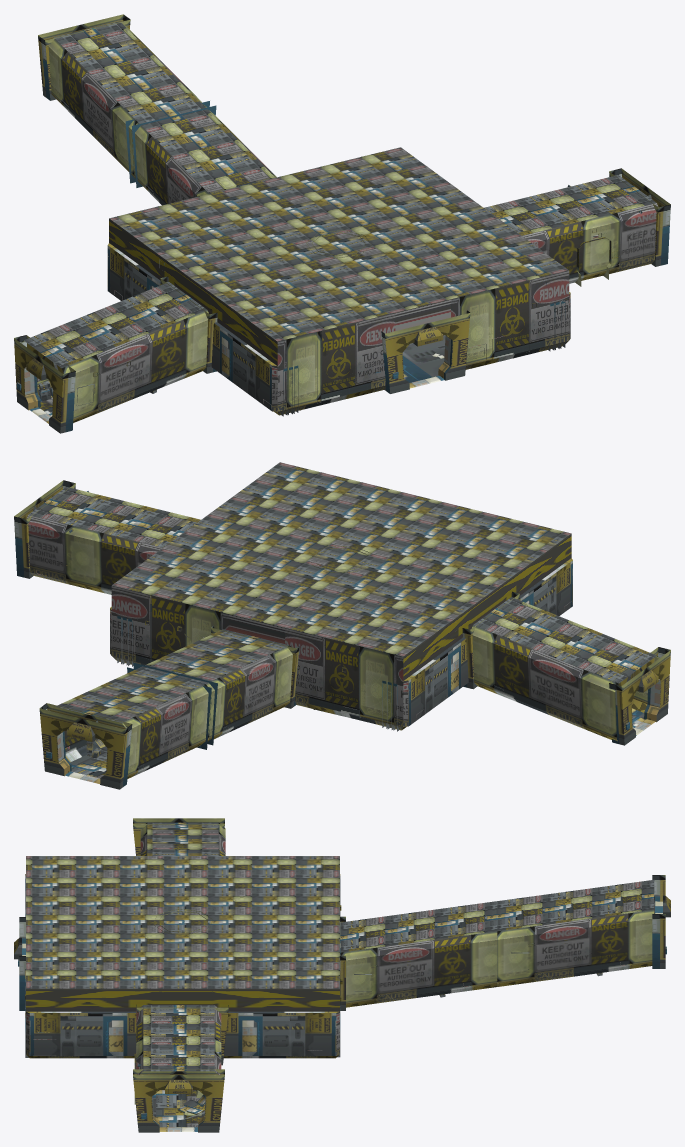
File: Combined_Mesh_root_scene__11_1f1e19ed__ZombiesII_laboratory_06_d_24666406_c1f257.obj
3 renders of one model, top to bottom at view 1: azimuth 30°, elevation 25°; view 2: azimuth 150°, elevation 25°; view 3: azimuth 270°, elevation 25°, orthographic. The views are drawn at different scales.
Bounding box in the file's own units: 84.66 × 16.88 × 83.67.
291 materials, 291 textured.
